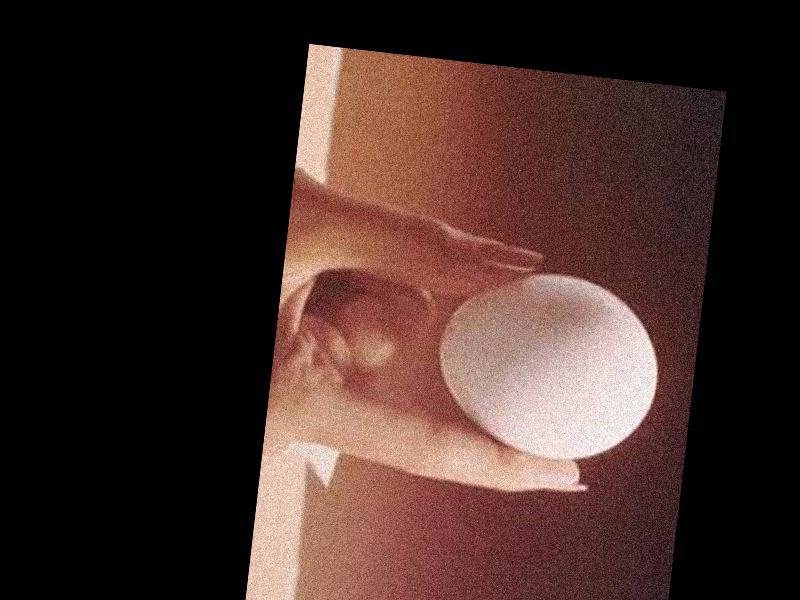Eggs: (425, 258, 667, 469)
